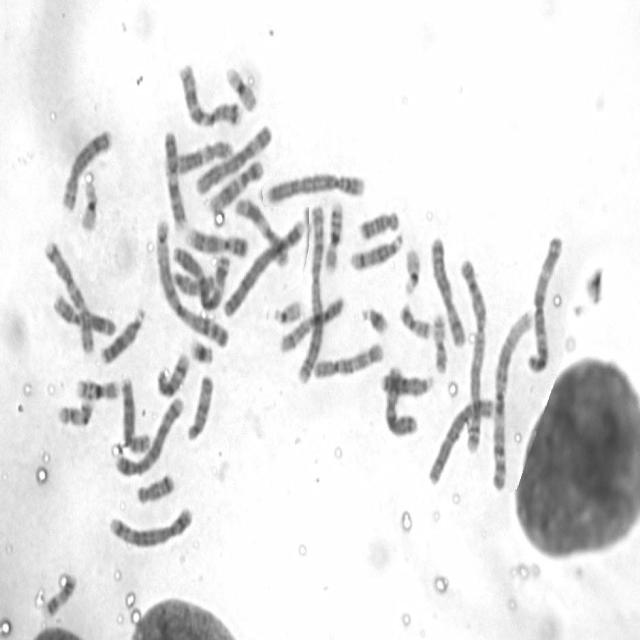A1: (151, 212, 230, 350), (488, 303, 534, 493)
A2: (455, 255, 487, 454), (295, 199, 327, 386)
A3: (524, 229, 564, 374), (171, 240, 229, 312)
B4: (220, 212, 308, 319), (262, 166, 368, 205)
B5: (112, 391, 186, 480), (106, 500, 196, 550)
C10: (277, 290, 346, 354), (310, 336, 386, 381)
C11: (232, 193, 292, 269), (49, 286, 118, 338)
C12: (205, 154, 265, 214), (166, 134, 234, 177)
C6: (426, 392, 496, 487), (192, 118, 274, 197)
C7: (40, 234, 97, 357), (176, 57, 243, 128)
C8: (59, 122, 114, 213), (118, 370, 152, 454)
C9: (160, 126, 189, 232), (183, 221, 251, 259)
D13: (97, 303, 146, 366), (378, 367, 436, 397)
D14: (347, 226, 405, 272), (153, 348, 191, 398)
D15: (184, 369, 214, 442), (167, 262, 220, 301)
E16: (322, 195, 344, 274), (72, 372, 122, 402)
E17: (41, 568, 78, 618), (54, 392, 95, 428)
E18: (356, 204, 401, 241), (133, 468, 177, 505)
F19: (222, 61, 259, 112), (76, 174, 100, 233)
F20: (396, 296, 434, 341), (430, 308, 449, 375)
G21: (358, 300, 391, 336), (186, 333, 216, 365)
G22: (400, 242, 422, 296), (270, 294, 305, 325)
X: (428, 230, 468, 350), (382, 361, 420, 437)
